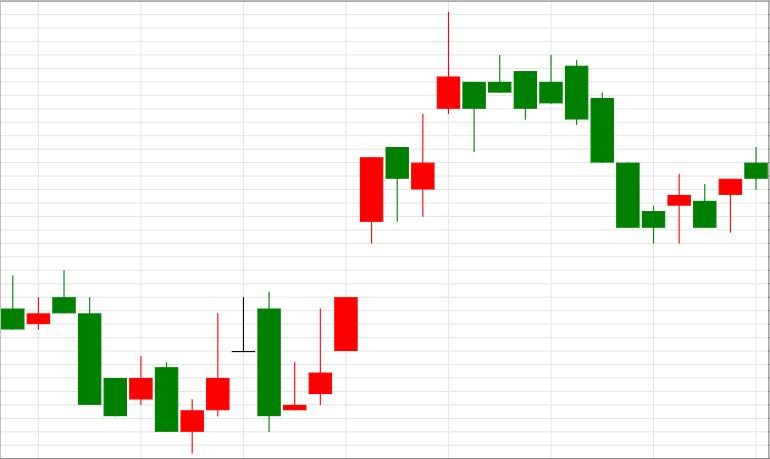shooting_star_fall: (283, 12, 460, 411)
